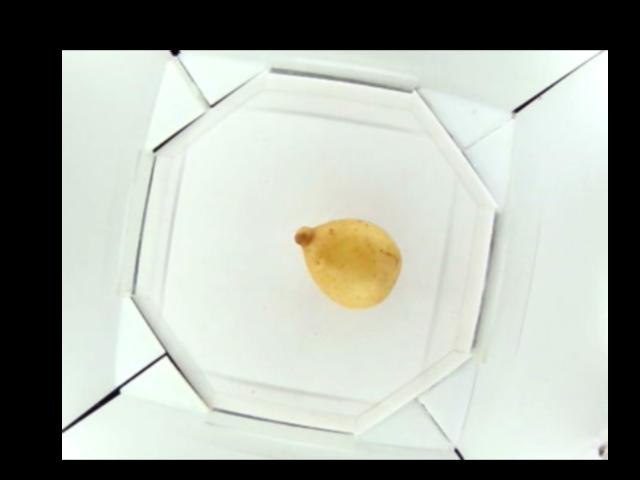Potato: (294, 214, 401, 314)
